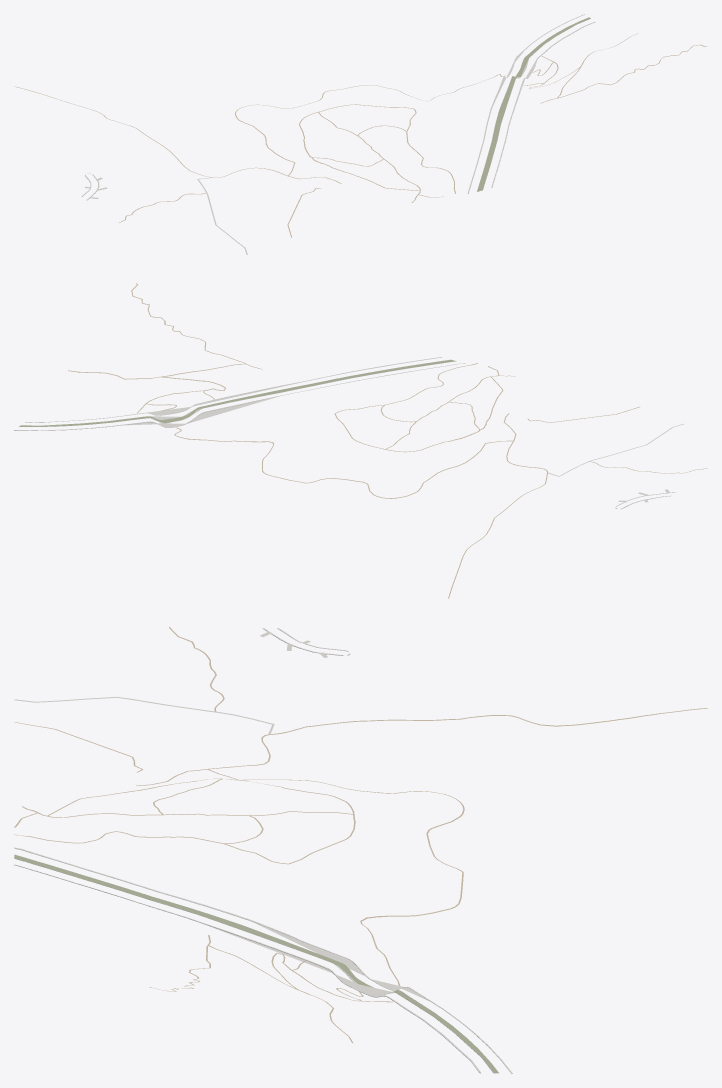
The model's file is ground_r7_c3.glb.
The picture shows the model from 3 angles, top to bottom: view 1: azimuth 30°, elevation 25°; view 2: azimuth 150°, elevation 25°; view 3: azimuth 270°, elevation 25°; orthographic projection. The views are drawn at different scales.
Parts seen in each view (by area): view 1: paths, sidewalks, medians; view 2: paths, sidewalks, medians; view 3: paths, sidewalks, medians.
Boxes of the visible parts, bbox=[...] form: paths: bbox=[14, 33, 707, 254]; sidewalks: bbox=[81, 14, 595, 200]; medians: bbox=[477, 17, 590, 191]; paths: bbox=[68, 283, 707, 598]; sidewalks: bbox=[14, 357, 675, 509]; medians: bbox=[19, 359, 456, 426]; paths: bbox=[14, 627, 707, 1043]; sidewalks: bbox=[14, 628, 512, 1073]; medians: bbox=[14, 854, 498, 1073].
Bounding box in the file's own units: 1125 × 115 × 788.
